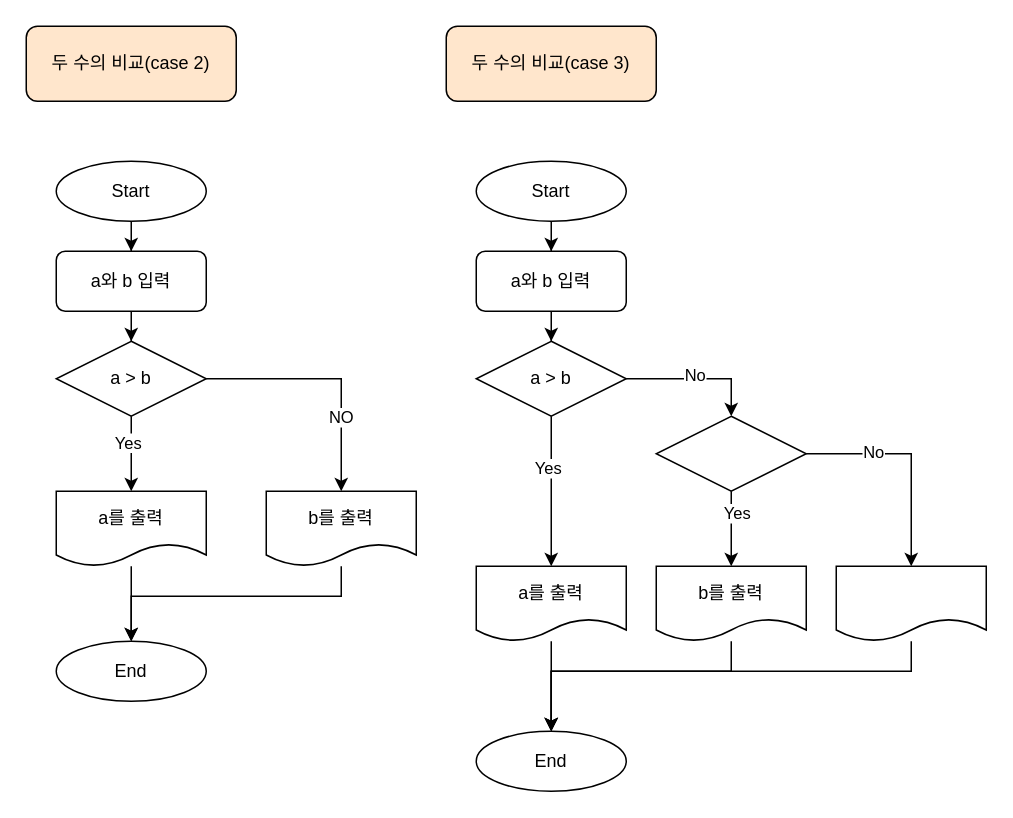
Some shapes in this 1013 by 818 pixel diagram are drawn without their labels. Here are the shapes that lost their labels. From the top down, the box of each, then its label:
(655, 415, 806, 491): a < b
(835, 565, 986, 641): a = b 출력
